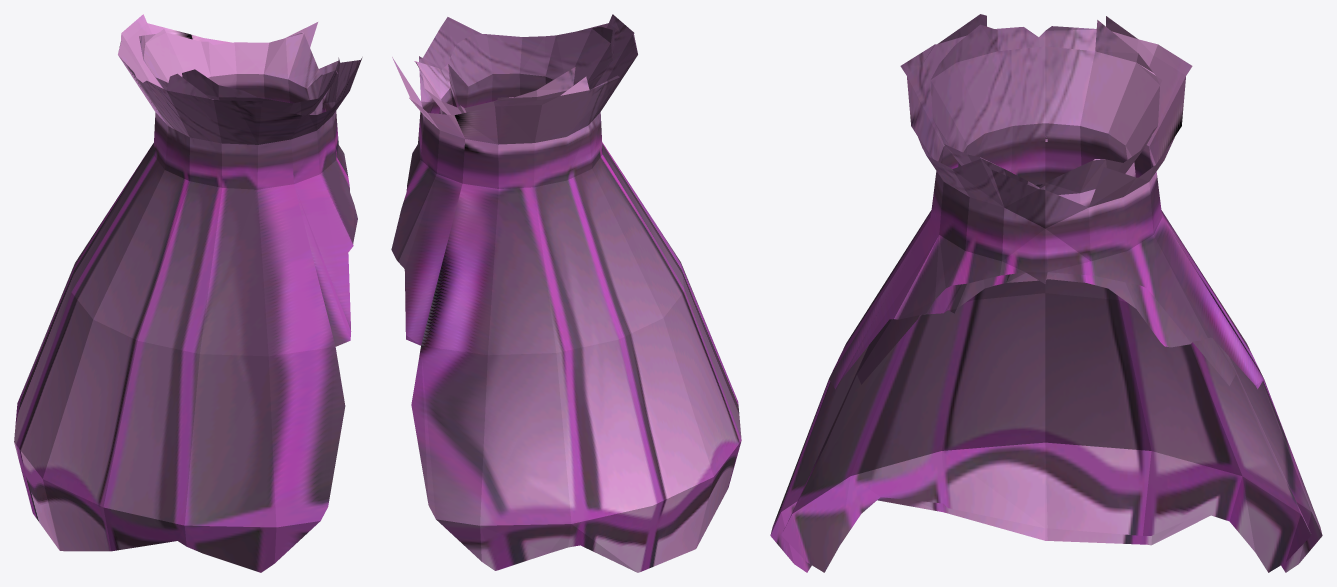
The model's file is BVase3.glb.
The picture shows the model from 3 angles, left to right: view 1: azimuth 30°, elevation 25°; view 2: azimuth 150°, elevation 25°; view 3: azimuth 270°, elevation 25°; orthographic projection. The views are drawn at different scales.
Parts seen in each view (by area): view 1: BVase3; view 2: BVase3; view 3: BVase3.
Boxes of the visible parts, x1,y1,x2,y2 form: BVase3: [14, 14, 362, 572]; BVase3: [391, 14, 741, 572]; BVase3: [770, 14, 1322, 572].
Bounding box in the file's own units: 102 × 155 × 134.
1 material, 1 textured.
